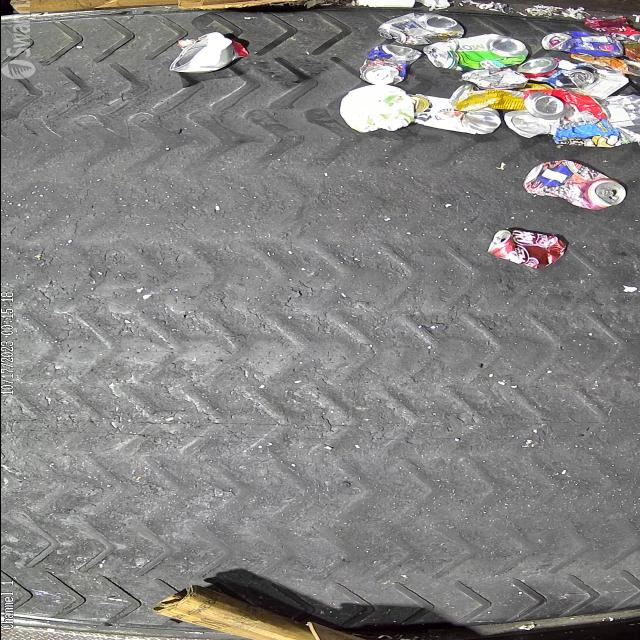can: (522, 160, 626, 210), (422, 33, 528, 71), (407, 94, 501, 135), (522, 89, 608, 129), (486, 228, 568, 268), (448, 84, 554, 112), (377, 12, 464, 44), (358, 44, 422, 84), (541, 30, 623, 56), (603, 94, 640, 142), (582, 15, 640, 45), (516, 56, 577, 84), (504, 110, 556, 138), (558, 65, 596, 89)
